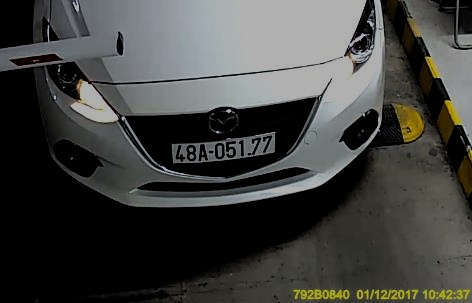plate: (170, 134, 274, 162)
